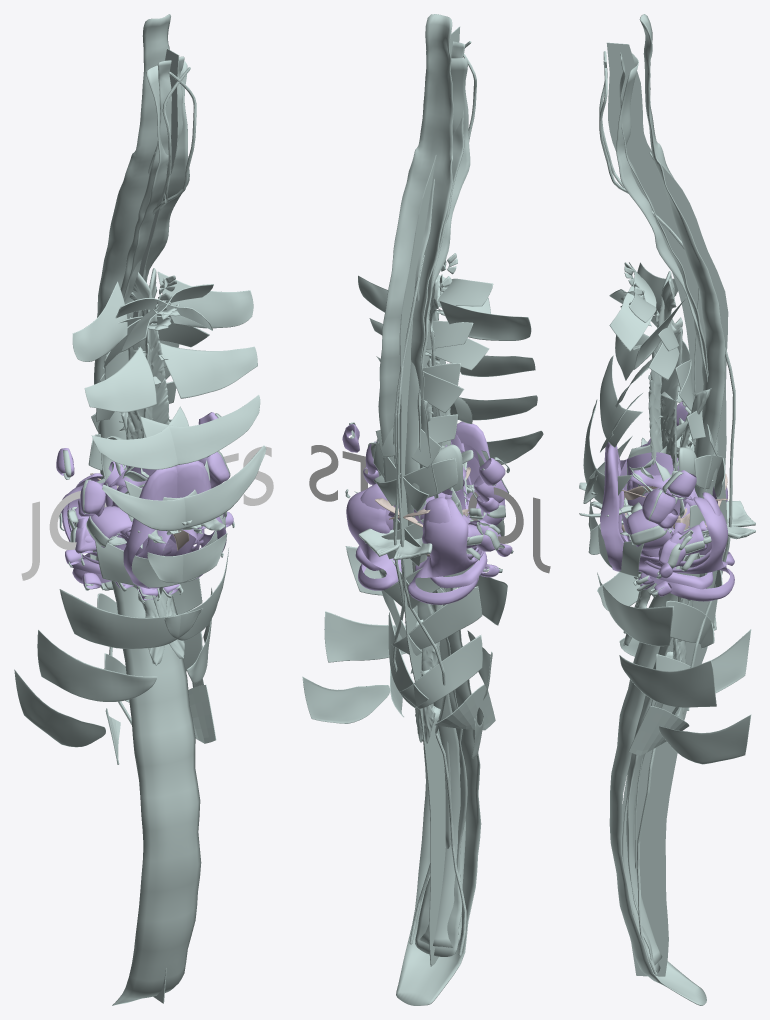
Rendered from joints.glb.
3 views of the same model, side by side, from view 1: azimuth 30°, elevation 25°; view 2: azimuth 150°, elevation 25°; view 3: azimuth 270°, elevation 25° (orthographic). The views are drawn at different scales.
Visible parts, largest first — view 1: Anterior_longitudinal_ligament, External_intercostal_membrane_R, External_intercostal_membrane_L, Internal_intercostal_membrane_R, Ligamenta_flava, Internal_intercostal_membrane_L, Articular_capsule_of_knee_joint_R, Posterior_longitudinal_ligament, Articular_capsule_of_knee_joint_L, Interosseous_membrane_of_leg_R, Joints.g, Interspinous_ligaments (+8 smaller); view 2: Anterior_longitudinal_ligament, Internal_intercostal_membrane_L, External_intercostal_membrane_L, Ligamenta_flava, Interspinous_ligaments, Internal_intercostal_membrane_R, Articular_capsule_of_knee_joint_R, Articular_capsule_of_knee_joint_L, Posterior_longitudinal_ligament, External_intercostal_membrane_R, Joints.g, Intertransverse_ligaments_L (+7 smaller); view 3: Interspinous_ligaments, External_intercostal_membrane_L, Anterior_longitudinal_ligament, Internal_intercostal_membrane_R, Ligamenta_flava, External_intercostal_membrane_R, Articular_capsule_of_knee_joint_L, Internal_intercostal_membrane_L, Articular_capsule_of_knee_joint_R, Posterior_longitudinal_ligament, Interosseous_membrane_of_leg_L, Interosseous_membrane_of_leg_R (+14 smaller).
Part boxes in pixels (bbox=[...]): Anterior_longitudinal_ligament: bbox=[94, 14, 201, 1005]; External_intercostal_membrane_R: bbox=[14, 271, 266, 747]; External_intercostal_membrane_L: bbox=[72, 281, 228, 687]; Internal_intercostal_membrane_R: bbox=[91, 284, 216, 743]; Ligamenta_flava: bbox=[123, 61, 189, 316]; Internal_intercostal_membrane_L: bbox=[88, 298, 212, 764]; Articular_capsule_of_knee_joint_R: bbox=[67, 466, 203, 589]; Posterior_longitudinal_ligament: bbox=[120, 56, 184, 318]; Articular_capsule_of_knee_joint_L: bbox=[61, 461, 226, 583]; Interosseous_membrane_of_leg_R: bbox=[126, 272, 169, 469]; Joints.g: bbox=[21, 446, 273, 580]; Interspinous_ligaments: bbox=[133, 48, 179, 1003]; Anterior_longitudinal_ligament: bbox=[378, 14, 481, 1005]; Internal_intercostal_membrane_L: bbox=[375, 278, 495, 730]; External_intercostal_membrane_L: bbox=[302, 300, 543, 723]; Ligamenta_flava: bbox=[394, 58, 470, 947]; Interspinous_ligaments: bbox=[399, 26, 459, 966]; Internal_intercostal_membrane_R: bbox=[373, 275, 490, 717]; Articular_capsule_of_knee_joint_R: bbox=[346, 421, 505, 590]; Articular_capsule_of_knee_joint_L: bbox=[355, 434, 483, 604]; Posterior_longitudinal_ligament: bbox=[392, 41, 467, 956]; External_intercostal_membrane_R: bbox=[358, 275, 507, 758]; Joints.g: bbox=[309, 445, 550, 573]; Intertransverse_ligaments_L: bbox=[394, 53, 476, 944]; Interspinous_ligaments: bbox=[606, 42, 728, 976]; External_intercostal_membrane_L: bbox=[583, 262, 751, 764]; Anterior_longitudinal_ligament: bbox=[609, 14, 725, 1005]; Internal_intercostal_membrane_R: bbox=[609, 289, 723, 755]; Ligamenta_flava: bbox=[616, 53, 718, 965]; External_intercostal_membrane_R: bbox=[583, 297, 751, 693]; Articular_capsule_of_knee_joint_L: bbox=[600, 444, 734, 589]; Internal_intercostal_membrane_L: bbox=[609, 262, 725, 710]; Articular_capsule_of_knee_joint_R: bbox=[604, 442, 734, 601]; Posterior_longitudinal_ligament: bbox=[619, 52, 708, 972]; Interosseous_membrane_of_leg_L: bbox=[648, 278, 684, 603]; Interosseous_membrane_of_leg_R: bbox=[648, 271, 686, 719].
Size of the model in its own units: 5236 by 20036 by 3271.
